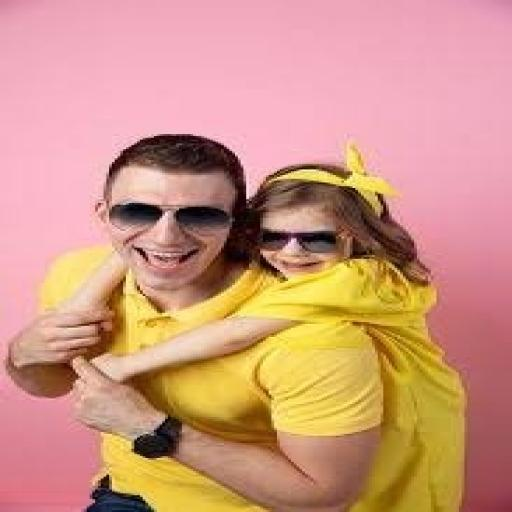hugging: (6, 132, 470, 510)
